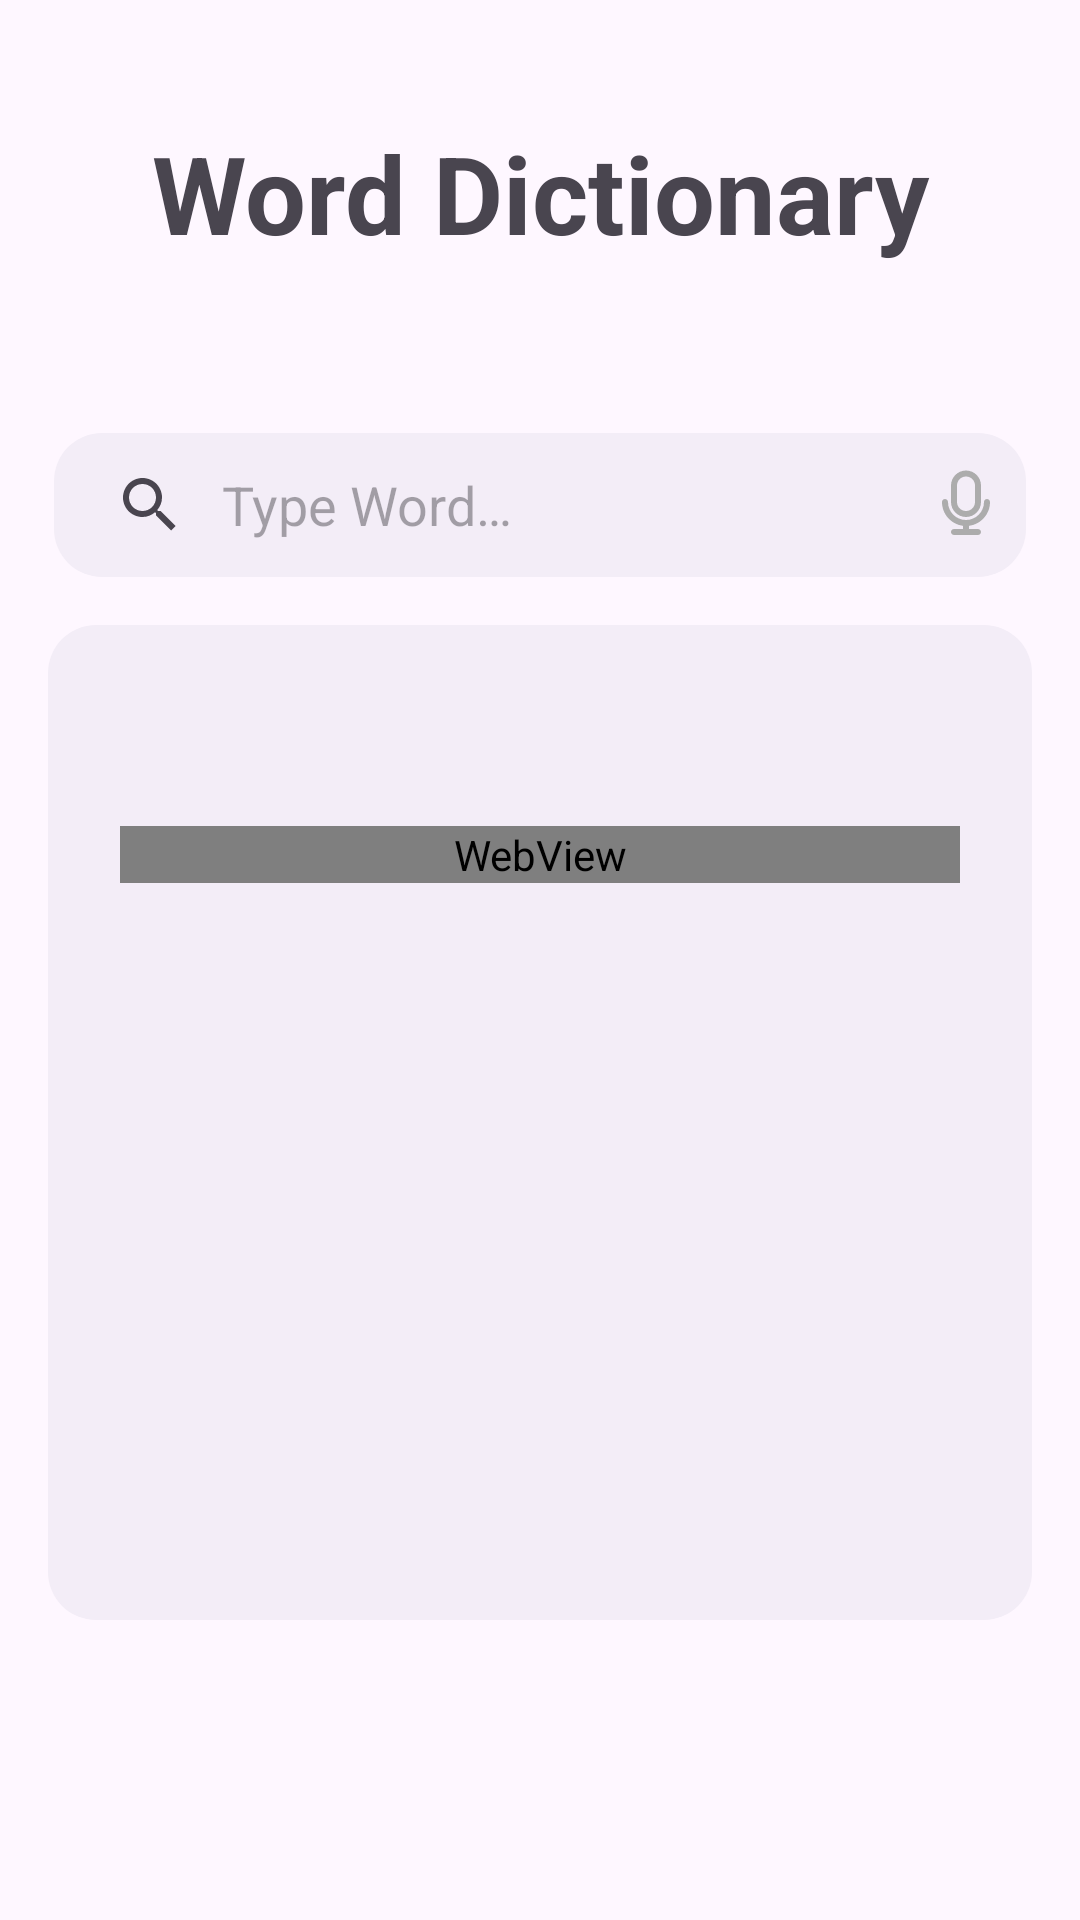

Icons on this 1080w x 1920h Android screen, each with its box as BBox(x1, y1, x2, y2):
mic: BBox(942, 470, 990, 535)
